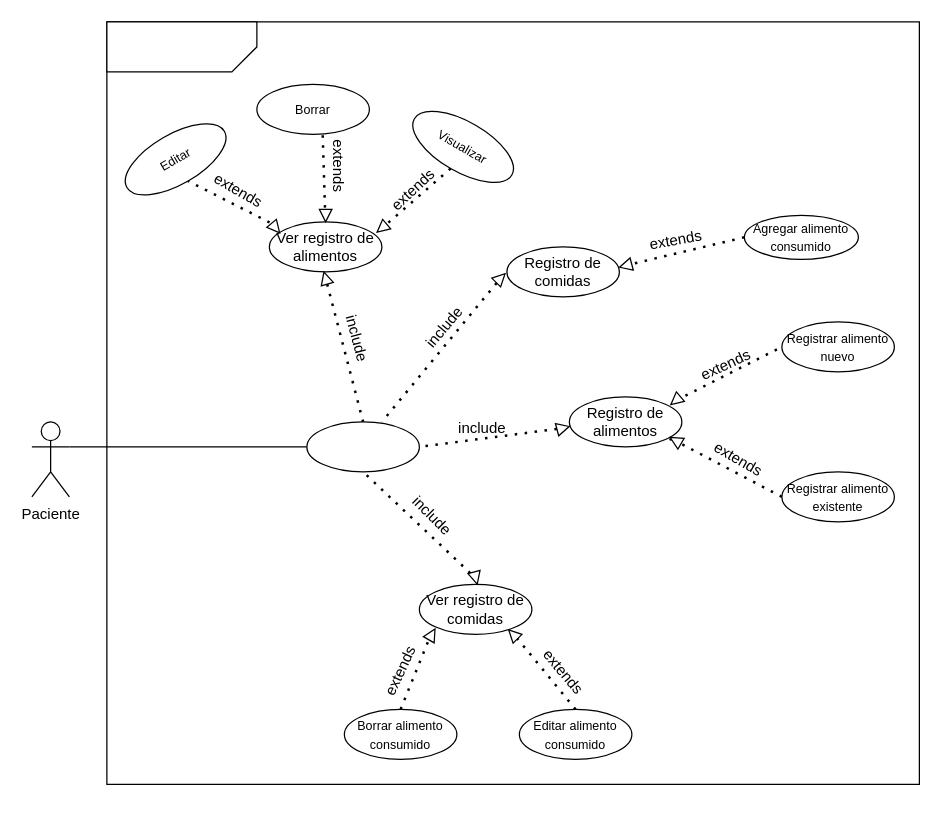
Some shapes in this 941 by 816 pixel diagram are drawn without their labels. The shapes that lost their labels are listed below. From the top down, each one's box as (x1, y1, x2, y2) in pixels, then its label:
(106, 21, 257, 72): CDU_ALIMENTOS
(306, 421, 419, 472): Alimentos
